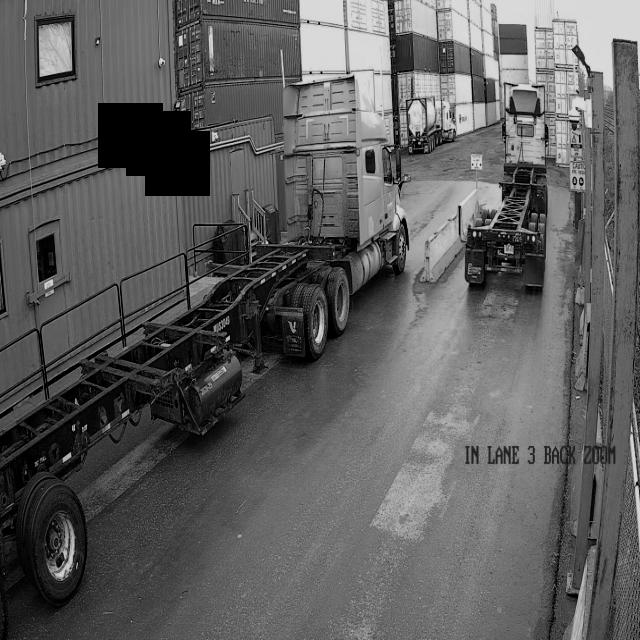truck_without_container: (0, 74, 411, 605), (453, 85, 549, 287)
